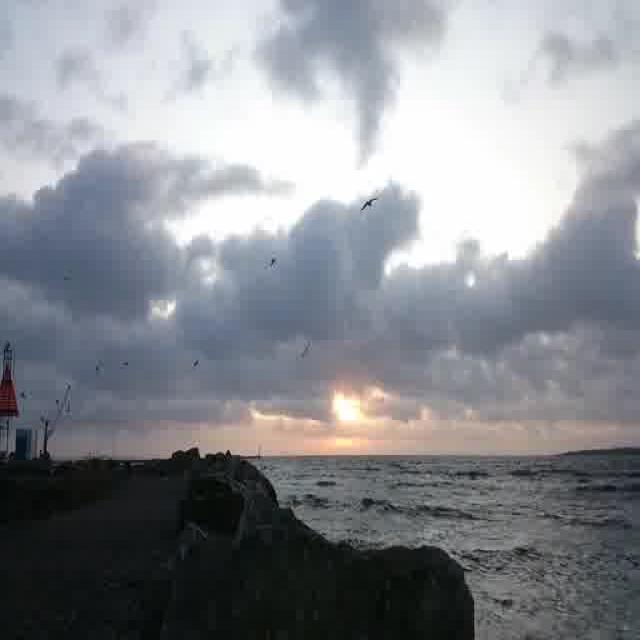bird: (358, 195, 383, 213), (297, 343, 319, 363), (268, 253, 287, 266), (95, 360, 109, 374), (191, 356, 207, 368), (18, 392, 30, 404), (65, 272, 77, 281), (121, 359, 129, 367)
